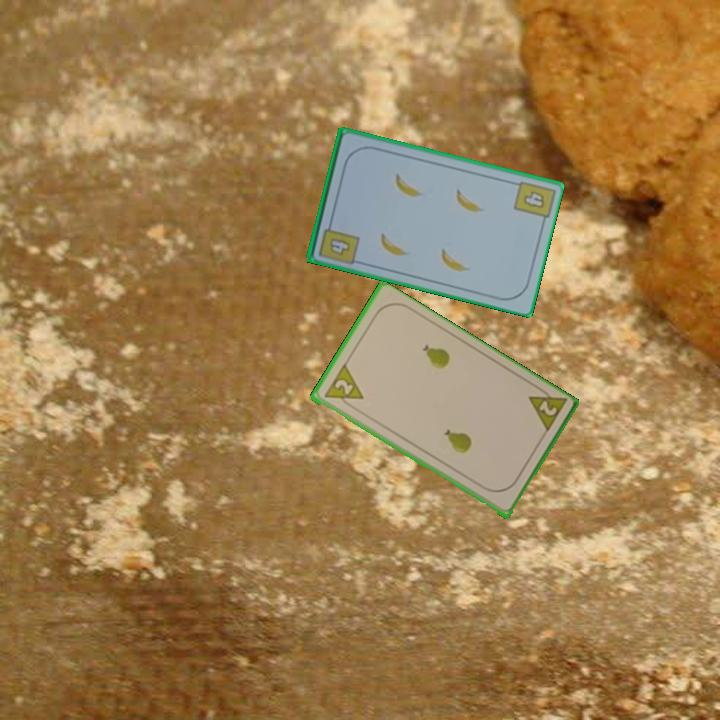2p: (320, 362, 366, 412), (535, 397, 560, 419)
4b: (315, 216, 362, 265), (520, 187, 548, 211)
